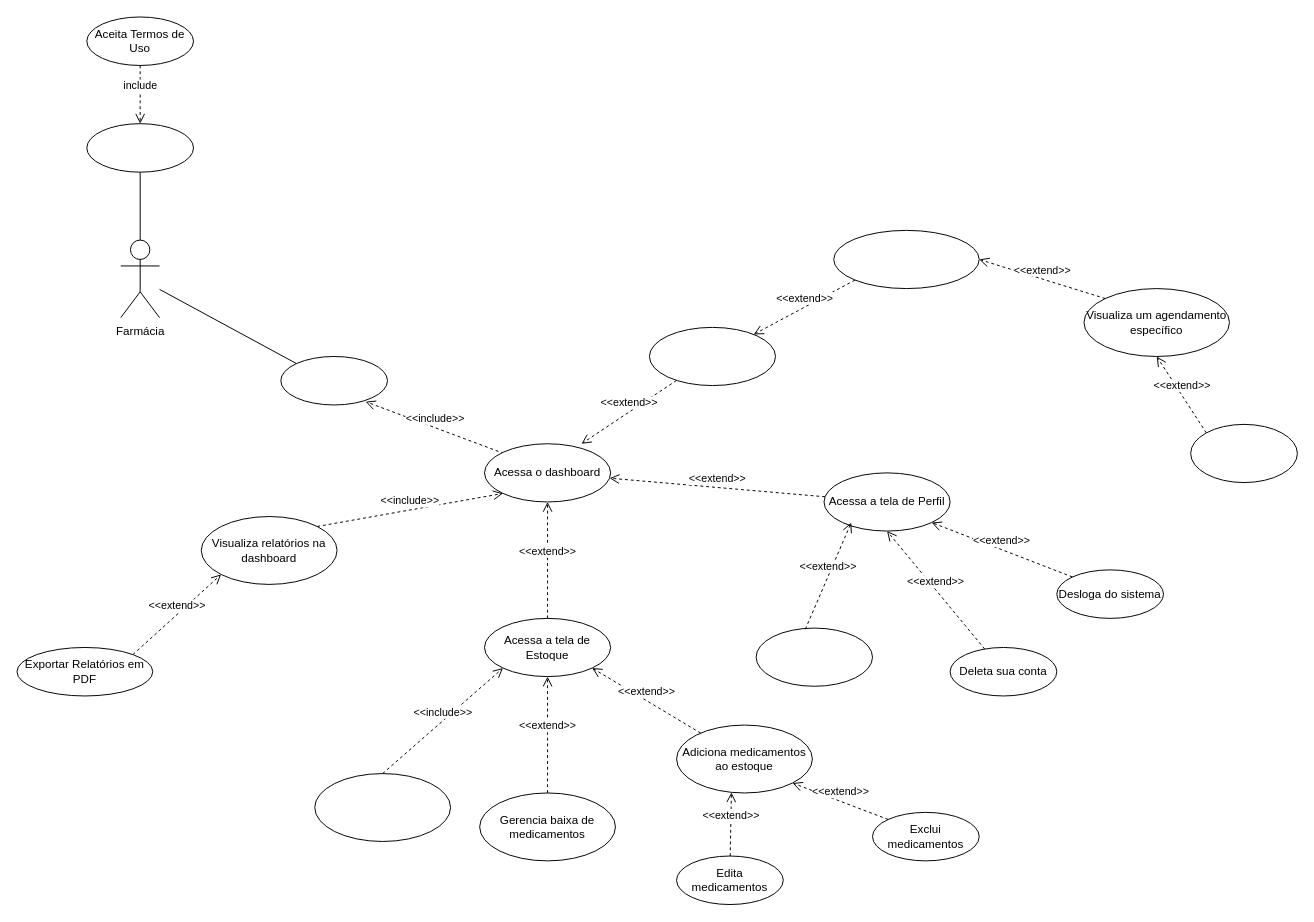
The diagram is 1314 pixels wide and 922 high, and some of its shapes have lost their labels. The centre of each missing label's shape, as x and y in pixels:
"Acessa a tela de Agendamentos" goes at (712,356).
"Altera Informações cadastrais" goes at (814,656).
"Cadastra no Sistema" goes at (140,147).
"Gerencia o Pedido" goes at (1243,453).
"Loga no Sistema" goes at (334,380).
"Visualiza calendário de agendamentos" goes at (906,259).
"Visualiza Medicamentos" goes at (382,807).
